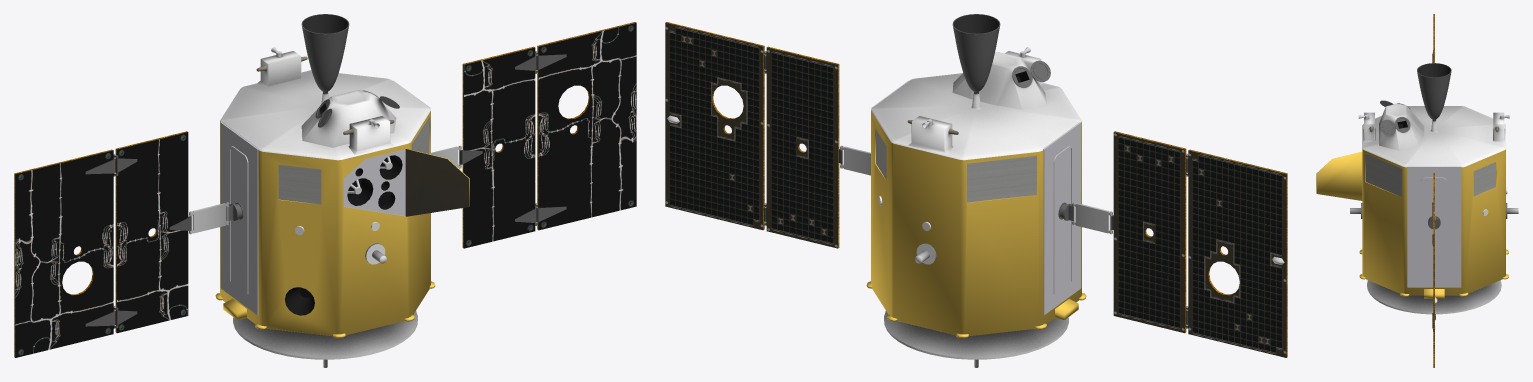
The model's file is clementine.glb.
The picture shows the model from 3 angles, left to right: view 1: azimuth 30°, elevation 25°; view 2: azimuth 150°, elevation 25°; view 3: azimuth 270°, elevation 25°; orthographic projection. The views are drawn at different scales.
Visible parts, largest first — view 1: tex_01, foil_gold, foil_white, AO_dish, AO_hinges; view 2: shiny_panel, foil_gold, tex_01, foil_white, AO_dish, AO_hinges; view 3: foil_gold, tex_01, foil_white, AO_dish.
Boxes of the visible parts, x1,y1,x2,y2 form: tex_01: [14, 14, 636, 357]; foil_gold: [215, 111, 469, 338]; foil_white: [220, 51, 430, 160]; AO_dish: [233, 243, 417, 367]; AO_hinges: [85, 51, 566, 328]; shiny_panel: [665, 23, 1286, 357]; foil_gold: [866, 111, 1086, 338]; tex_01: [665, 14, 1287, 357]; foil_white: [871, 51, 1081, 160]; AO_dish: [884, 243, 1068, 367]; AO_hinges: [764, 51, 1188, 328]; foil_gold: [1316, 149, 1508, 298]; tex_01: [1358, 14, 1509, 367]; foil_white: [1362, 103, 1505, 167]; AO_dish: [1350, 203, 1518, 319].
Bounding box in the file's own units: 4.13 × 2.18 × 1.6.
8 materials, 6 textured.
